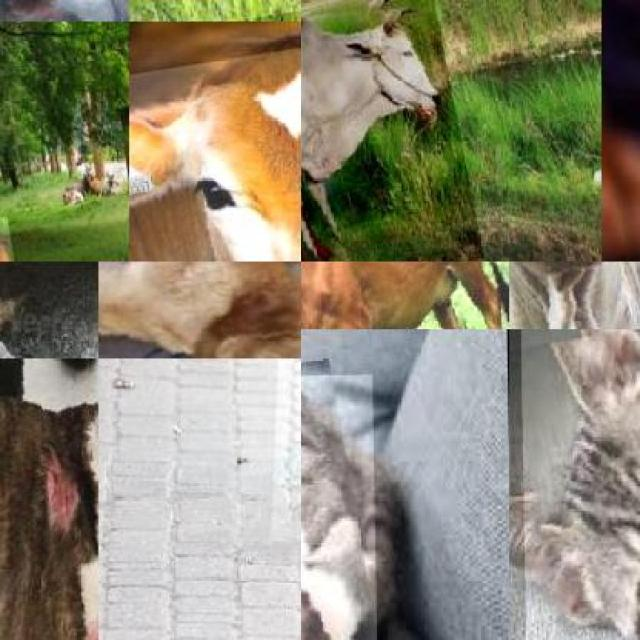cat: (518, 329, 640, 640)
cow: (300, 0, 483, 262), (129, 22, 300, 262), (300, 262, 509, 329), (509, 262, 640, 329)
dog: (0, 358, 98, 639), (98, 262, 300, 358)
injured: (300, 180, 346, 262), (28, 452, 68, 520), (78, 600, 98, 640), (99, 262, 132, 280)
